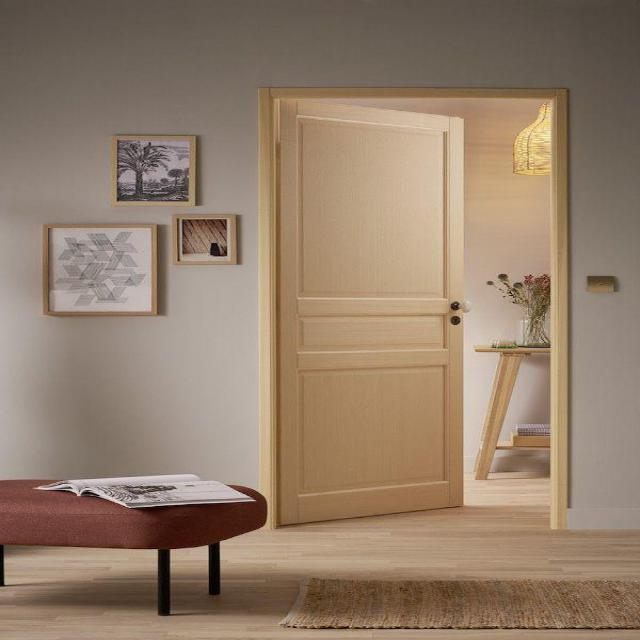semi-open: (243, 74, 578, 539)
